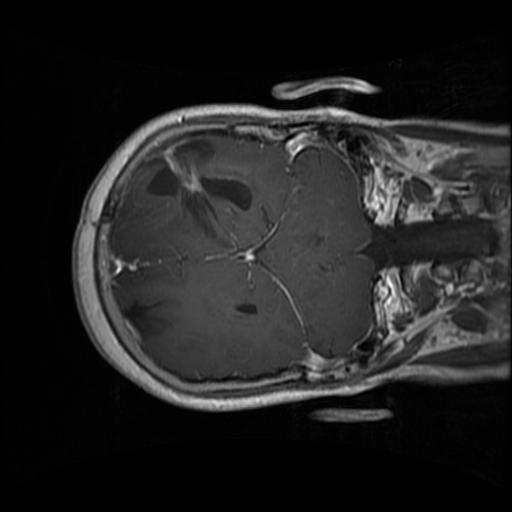glioma: (144, 138, 254, 244)
